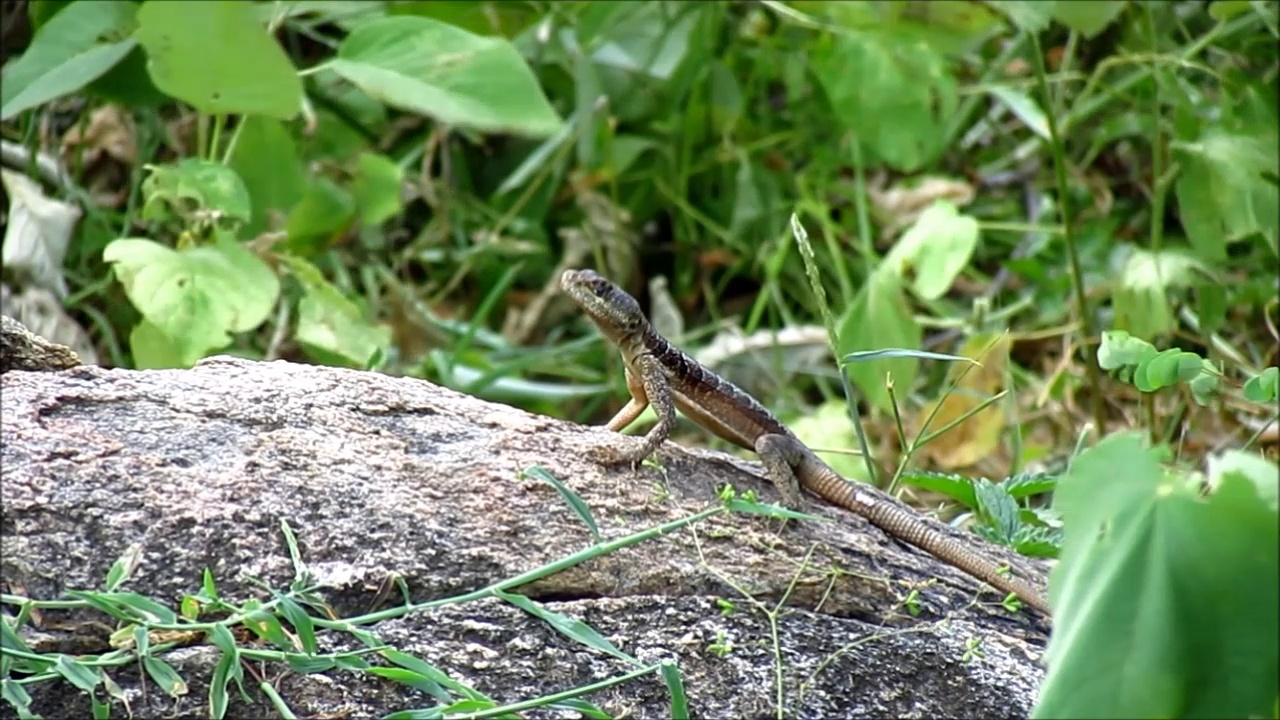body: (601, 315, 1052, 614)
head: (560, 269, 642, 341)
